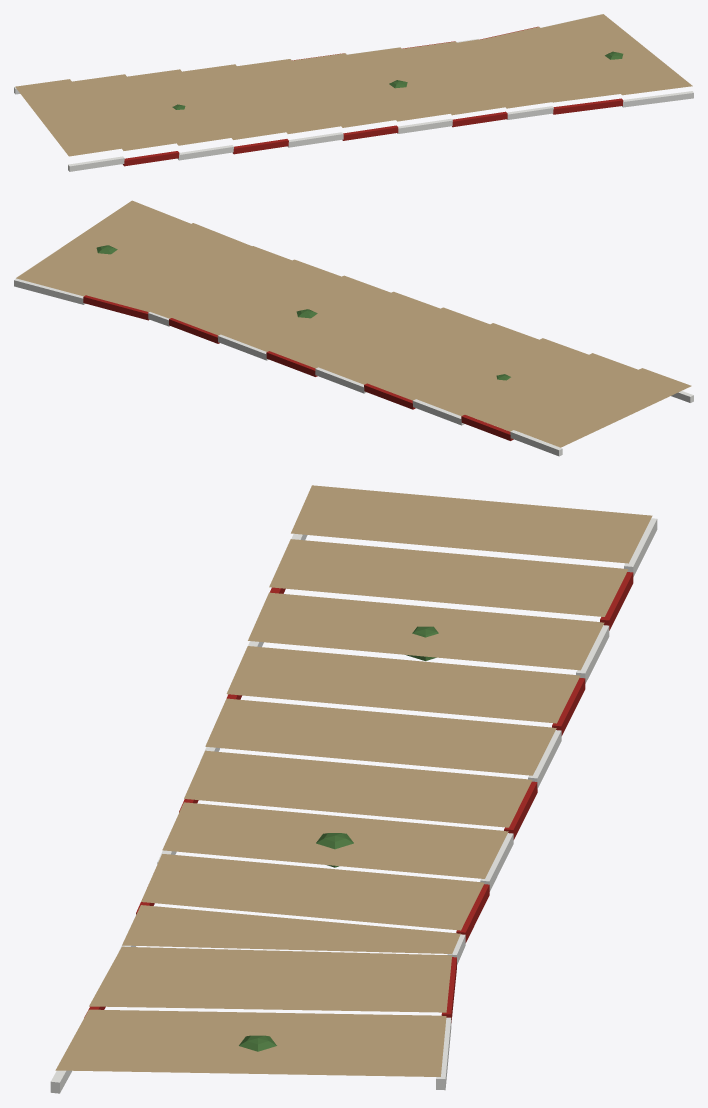
Rendered from pb_median_4.glb.
The picture shows the model from 3 angles, top to bottom: view 1: azimuth 30°, elevation 25°; view 2: azimuth 150°, elevation 25°; view 3: azimuth 270°, elevation 25°; orthographic projection. The views are drawn at different scales.
Parts seen in each view (by area): view 1: pb_median_4_lod0; view 2: pb_median_4_lod0; view 3: pb_median_4_lod0.
Part boxes in pixels (x1,y1,x2,y2): pb_median_4_lod0: (14,14,693,171); pb_median_4_lod0: (14,200,693,456); pb_median_4_lod0: (50,485,657,1093).
Size of what is drawn, in the model's own units: 34.48 by 1.78 by 15.96.
